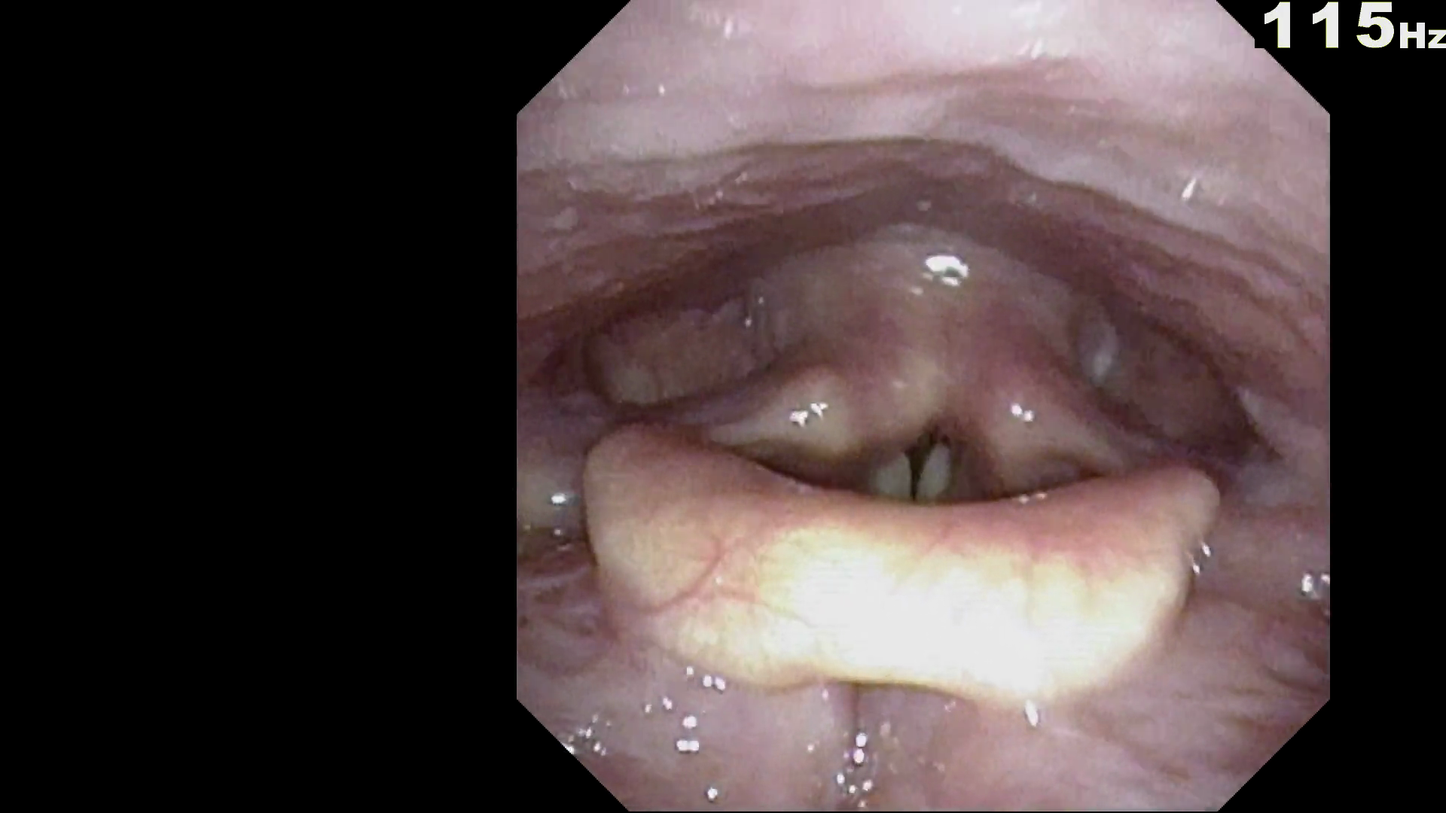epiglottis: (559, 347, 1270, 699)
trachea: (836, 348, 1013, 571)
